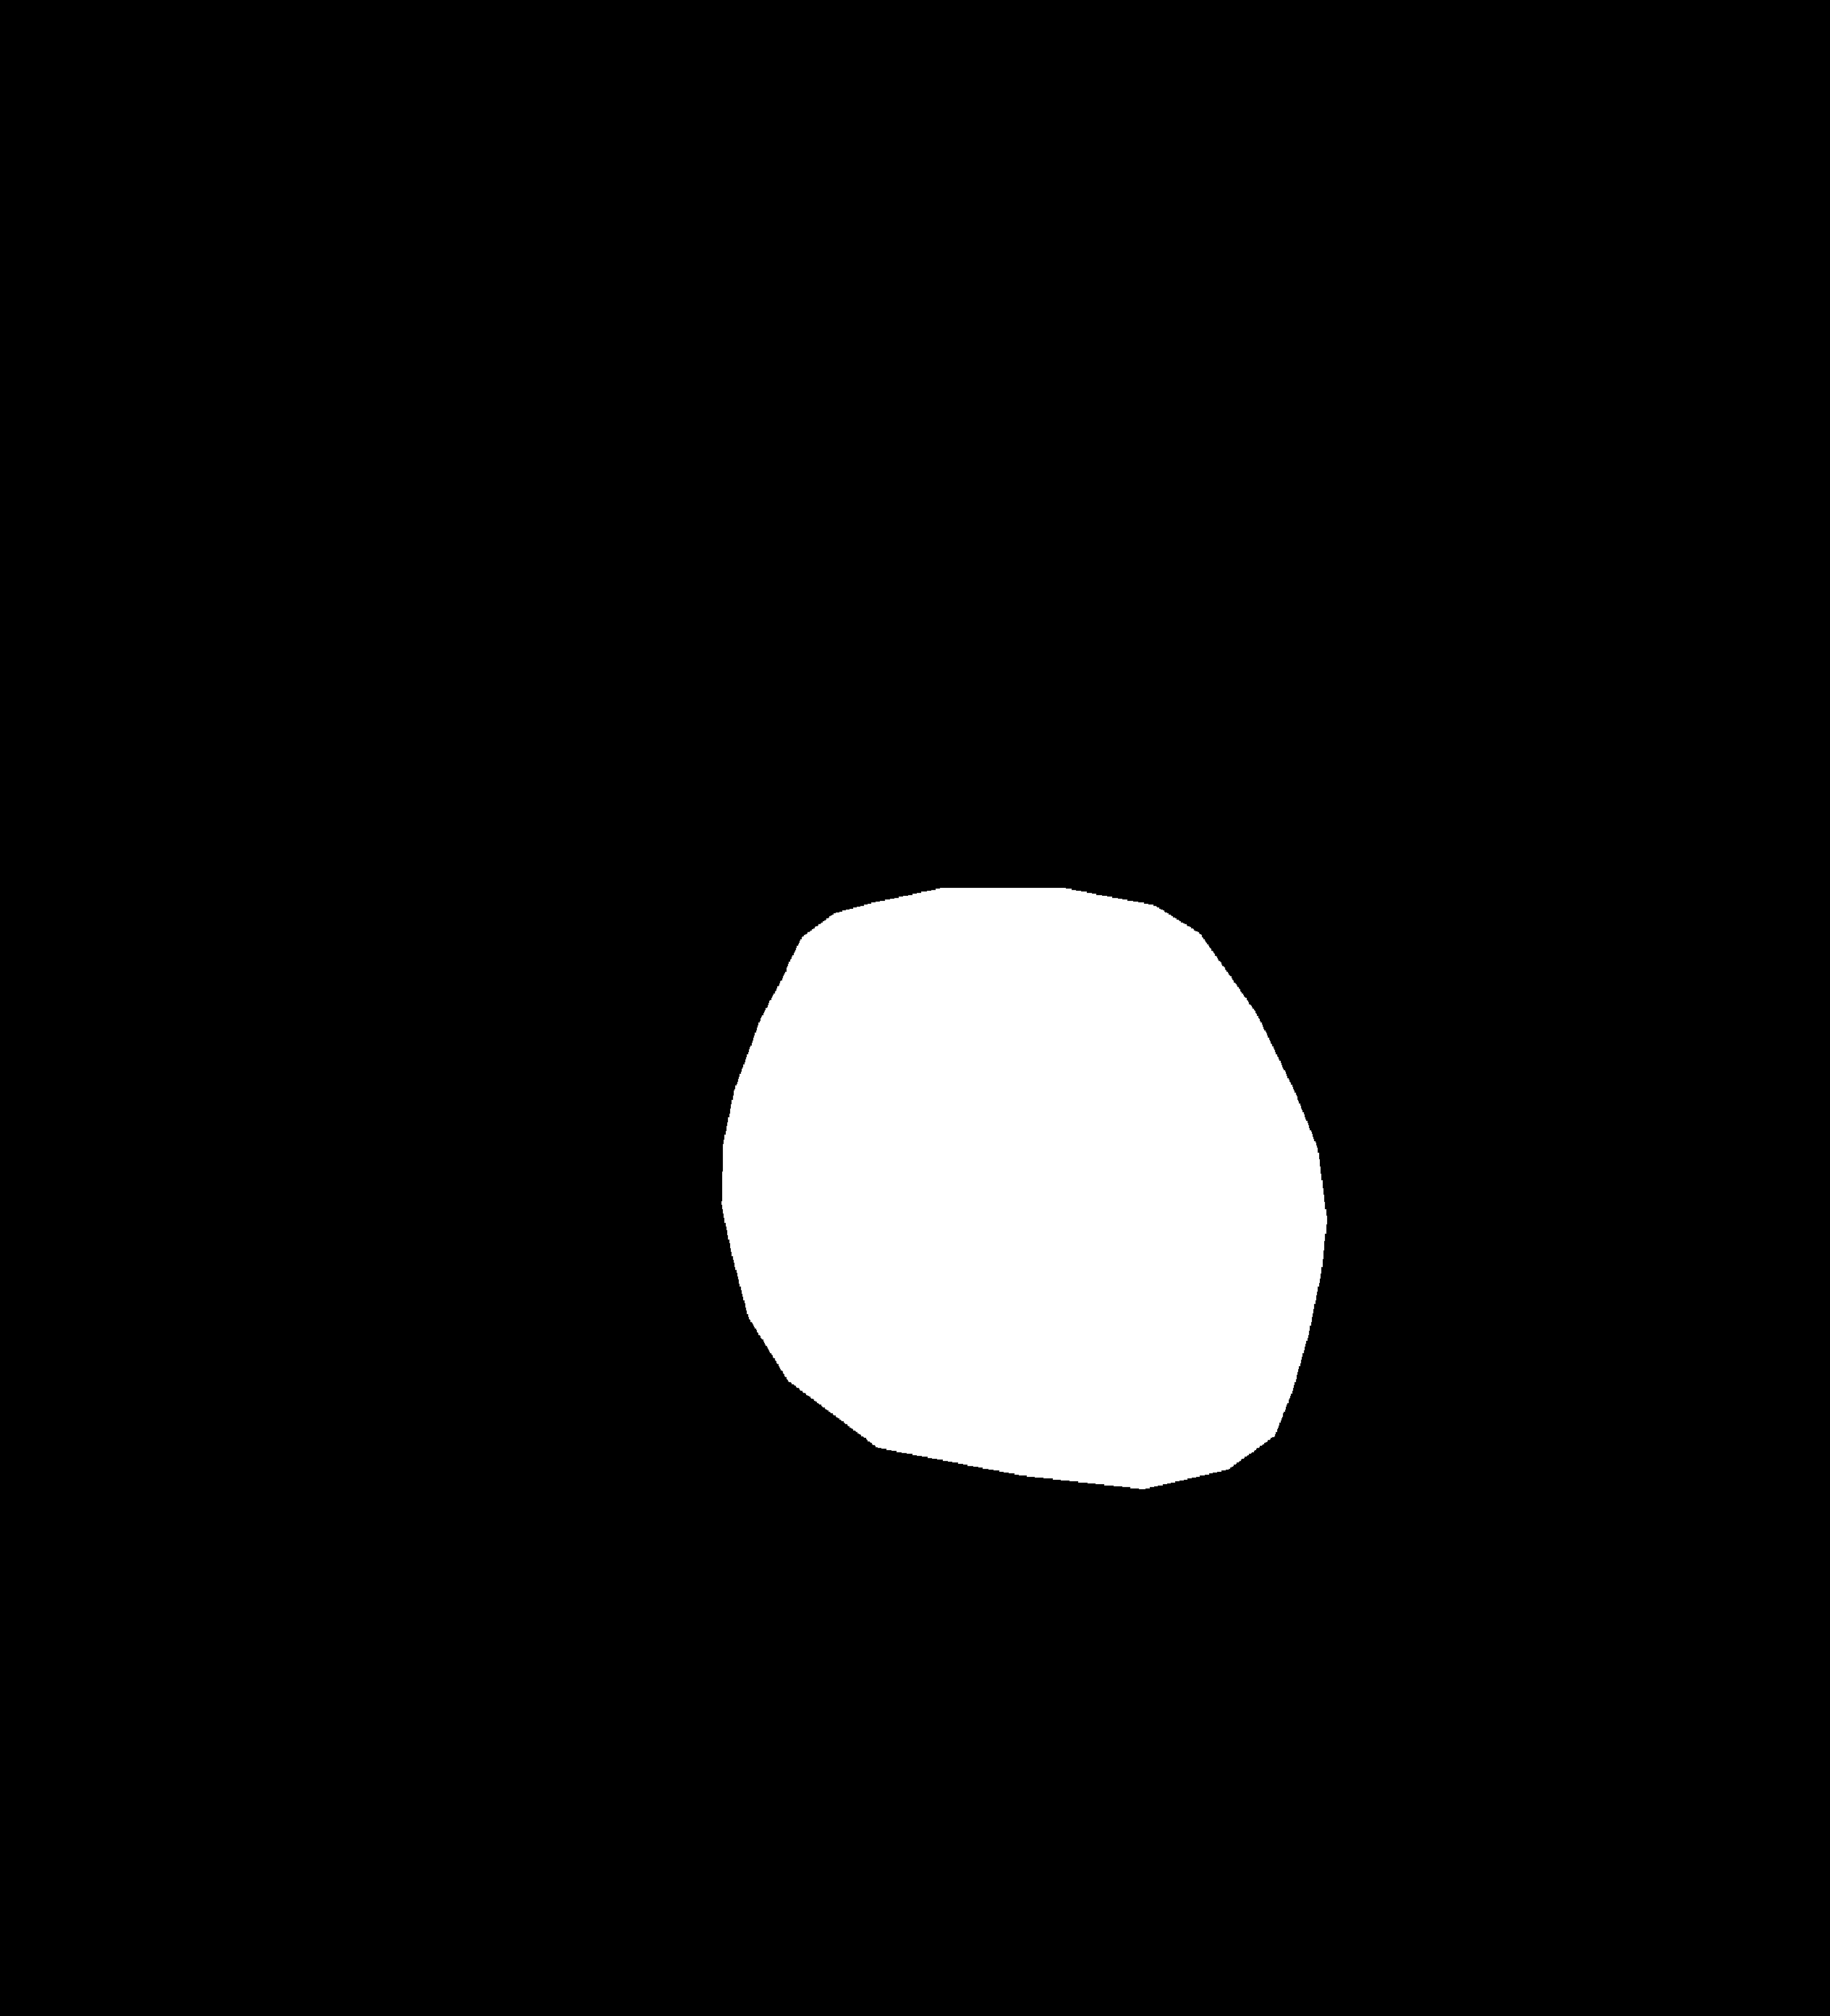heart: (729, 899, 1324, 1429)
left_lung: (213, 218, 903, 1623)
right_lung: (1029, 221, 1589, 1644)
